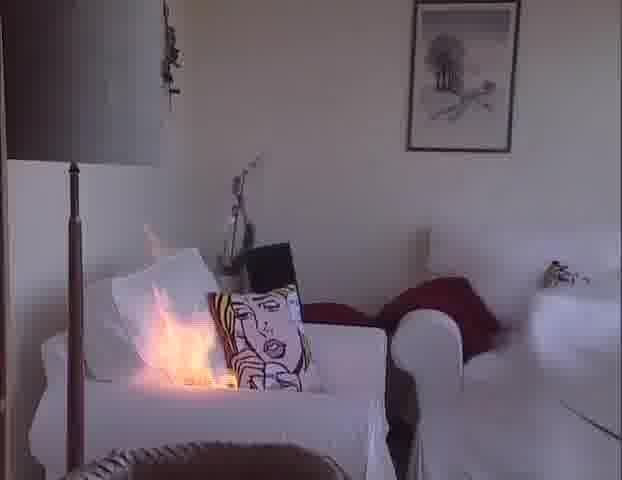fire: (147, 306, 224, 397)
